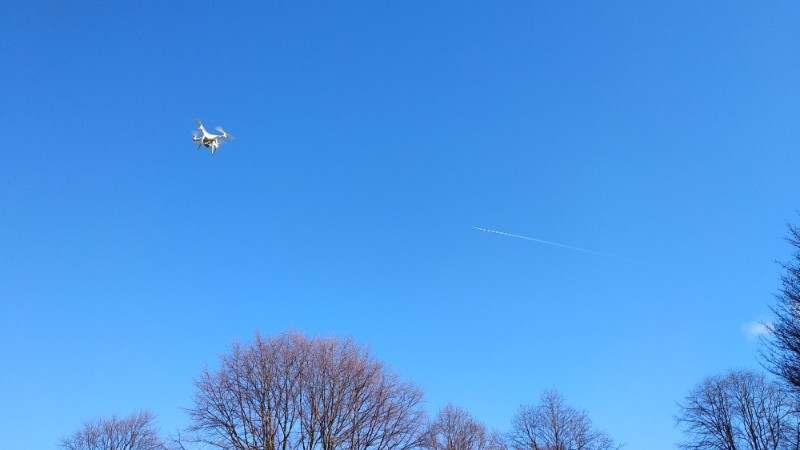drone: (187, 119, 237, 157)
